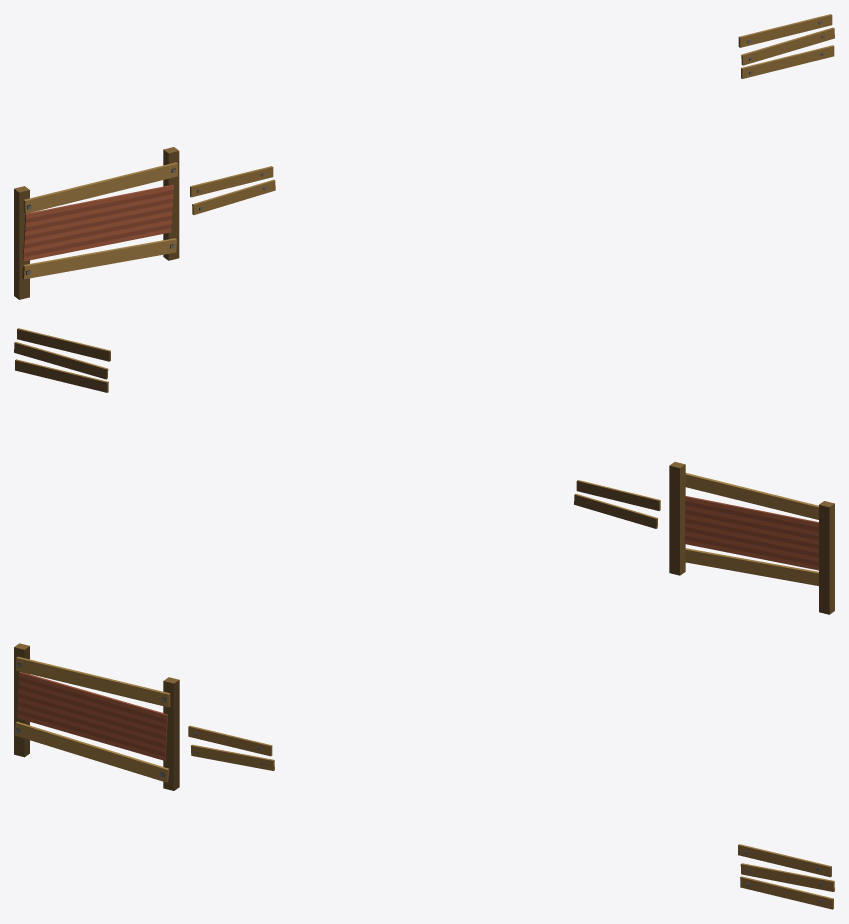
The model's file is SA_Bld_Motel_SideBuilding_Extras_01.gltf.
3 views of the same model, one above another, from view 1: azimuth 30°, elevation 25°; view 2: azimuth 150°, elevation 25°; view 3: azimuth 330°, elevation 25° (orthographic).
Visible parts, largest first — view 1: SA_Bld_Motel_SideBuilding_Extras_01; view 2: SA_Bld_Motel_SideBuilding_Extras_01; view 3: SA_Bld_Motel_SideBuilding_Extras_01.
Boxes of the visible parts, x1=… form: SA_Bld_Motel_SideBuilding_Extras_01: x1=14, y1=14, x2=834, y2=299; SA_Bld_Motel_SideBuilding_Extras_01: x1=14, y1=328, x2=834, y2=614; SA_Bld_Motel_SideBuilding_Extras_01: x1=14, y1=643, x2=834, y2=909.
Bounding box in the file's own units: 25.93 × 3.34 × 0.4577.
1 material, 1 textured.
